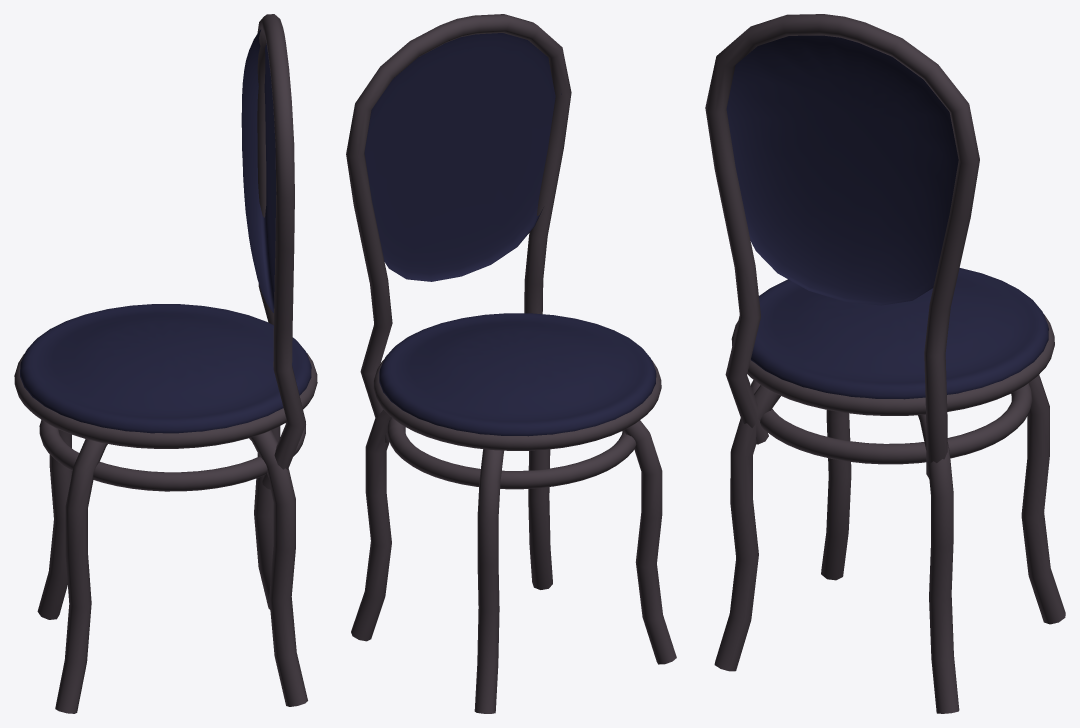
Rendered from blue_chair_2.glb.
3 renders of one model, left to right at view 1: azimuth 30°, elevation 25°; view 2: azimuth 150°, elevation 25°; view 3: azimuth 270°, elevation 25°, orthographic. The views are drawn at different scales.
Visible parts, largest first — view 1: chair.001, Vert.001, Vert.002, BezierCircle, Vert.003; view 2: Vert.003, chair.001, Vert.001, Vert.002, BezierCircle; view 3: Vert.003, chair.001, Vert.002, Vert.001, BezierCircle.
Boxes of the visible parts, x1,y1,x2,y2 form: chair.001: (20, 304, 311, 433); Vert.001: (37, 426, 307, 713); Vert.002: (257, 14, 305, 489); BezierCircle: (14, 353, 317, 491); Vert.003: (241, 29, 276, 312); Vert.003: (364, 33, 561, 281); chair.001: (379, 313, 656, 436); Vert.001: (351, 410, 676, 713); Vert.002: (346, 14, 571, 442); BezierCircle: (373, 359, 661, 489); Vert.003: (726, 35, 958, 305); chair.001: (751, 268, 1048, 399); Vert.002: (705, 14, 979, 478); Vert.001: (714, 375, 1065, 713); BezierCircle: (731, 314, 1054, 464).
Bounding box in the file's own units: 1.06 × 2.24 × 1.09.
